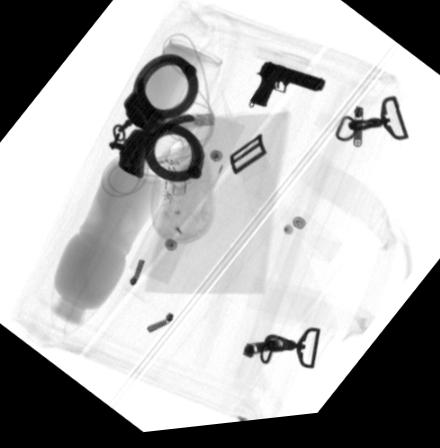Gun: (249, 64, 327, 116)
HandCuffs: (107, 55, 205, 187)
